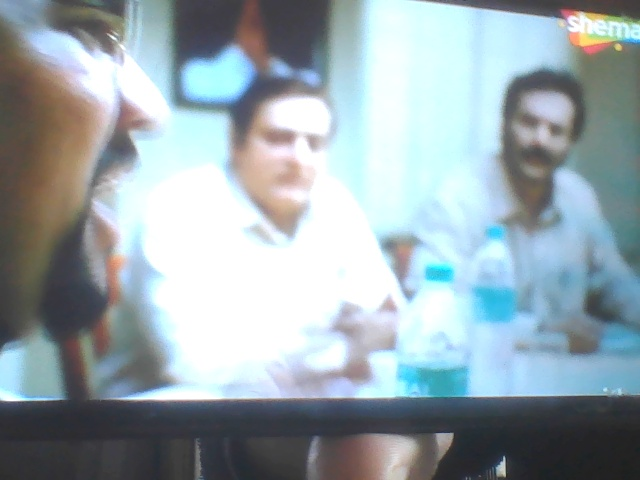fake: (229, 57, 341, 216)
